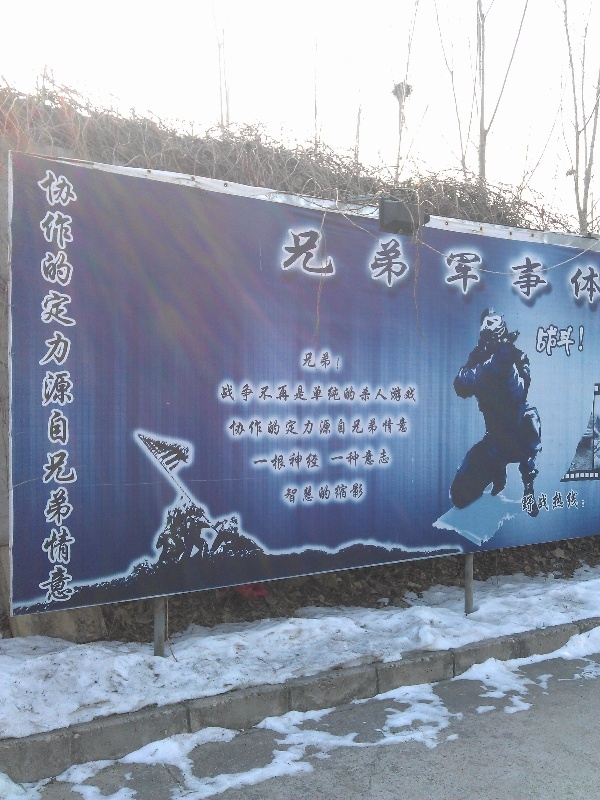text: (49, 165, 64, 608), (65, 165, 77, 608), (38, 165, 48, 608), (289, 224, 304, 308), (305, 224, 320, 308), (321, 224, 336, 308), (337, 224, 352, 308), (353, 224, 368, 308), (369, 224, 384, 308), (385, 224, 400, 308), (401, 224, 416, 308), (417, 224, 432, 308), (433, 224, 448, 308), (449, 224, 464, 308), (465, 224, 480, 308), (481, 224, 496, 308), (497, 224, 512, 308), (513, 224, 528, 308), (529, 224, 544, 308), (545, 224, 560, 308), (561, 224, 576, 308), (577, 224, 592, 308), (593, 224, 600, 308), (545, 324, 560, 358), (561, 324, 576, 358), (283, 224, 288, 308), (529, 488, 544, 516), (545, 488, 560, 516), (561, 488, 576, 516), (289, 481, 304, 505), (305, 481, 320, 505), (321, 481, 336, 505), (337, 481, 352, 505), (534, 324, 544, 358), (401, 383, 417, 404), (305, 451, 321, 472), (225, 383, 240, 404), (241, 383, 256, 404), (257, 383, 272, 404), (273, 383, 288, 404), (289, 383, 304, 404), (305, 383, 320, 404), (321, 383, 336, 404), (337, 383, 352, 404), (353, 383, 368, 404), (369, 383, 384, 404), (385, 383, 400, 404), (241, 417, 256, 438), (257, 417, 272, 438), (273, 417, 288, 438), (289, 417, 304, 438), (305, 417, 320, 438), (321, 417, 336, 438), (337, 417, 352, 438), (353, 417, 368, 438), (369, 417, 384, 438), (385, 417, 400, 438), (257, 451, 272, 472), (273, 451, 288, 472), (289, 451, 304, 472), (577, 488, 588, 516), (577, 324, 586, 358), (305, 351, 320, 371), (321, 351, 336, 371), (337, 448, 352, 468), (353, 448, 368, 468), (369, 448, 384, 468), (353, 481, 365, 505), (519, 488, 528, 516), (228, 417, 240, 438), (401, 417, 409, 438), (330, 448, 336, 468), (337, 351, 342, 371), (385, 448, 390, 468), (284, 481, 288, 505), (220, 383, 224, 404), (252, 451, 256, 472), (303, 351, 304, 371)
